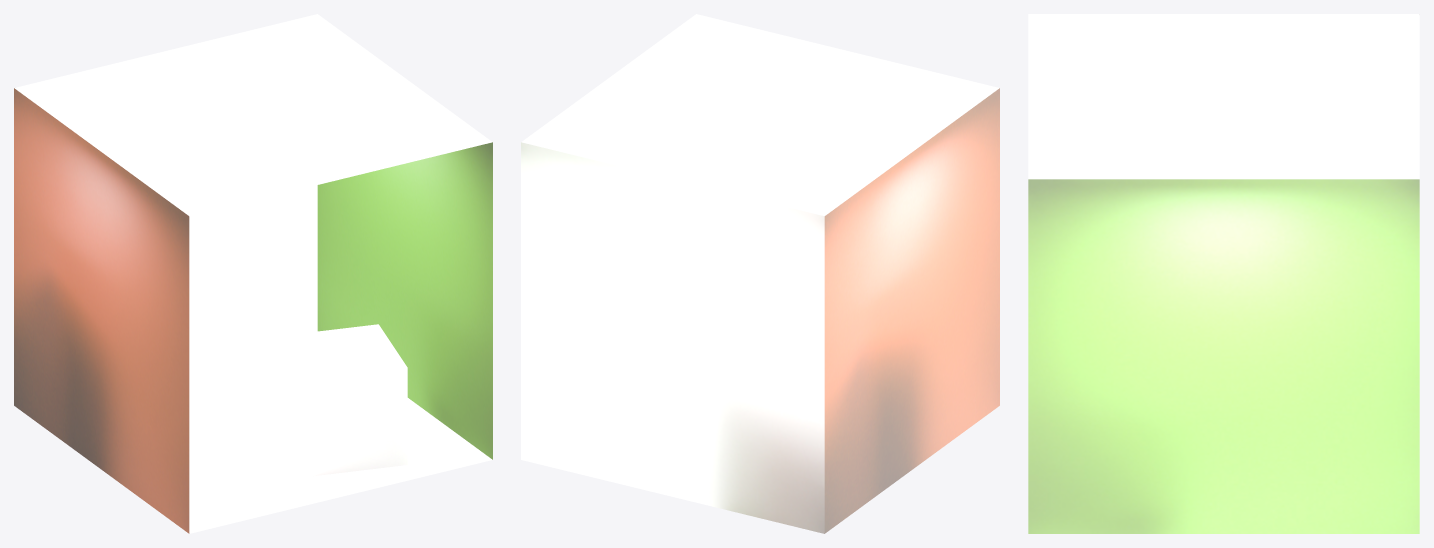
Rendered from cornell-box.glb.
3 renders of one model, left to right at view 1: azimuth 30°, elevation 25°; view 2: azimuth 150°, elevation 25°; view 3: azimuth 270°, elevation 25°, orthographic. The views are drawn at different scales.
Parts seen in each view (by area): view 1: CornellBox; view 2: CornellBox; view 3: CornellBox.
Boxes of the visible parts, <box> form: CornellBox: <box>14,14,492,533</box>; CornellBox: <box>521,14,999,533</box>; CornellBox: <box>1028,14,1419,533</box>.
Size of the model in its own units: 10 by 10 by 10.
